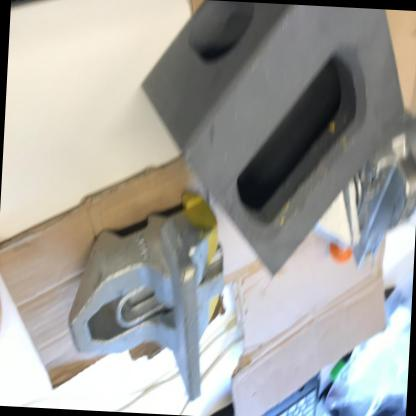CornerCasting: (132, 2, 408, 272)
Twistlock: (42, 193, 244, 391), (309, 110, 415, 286)
